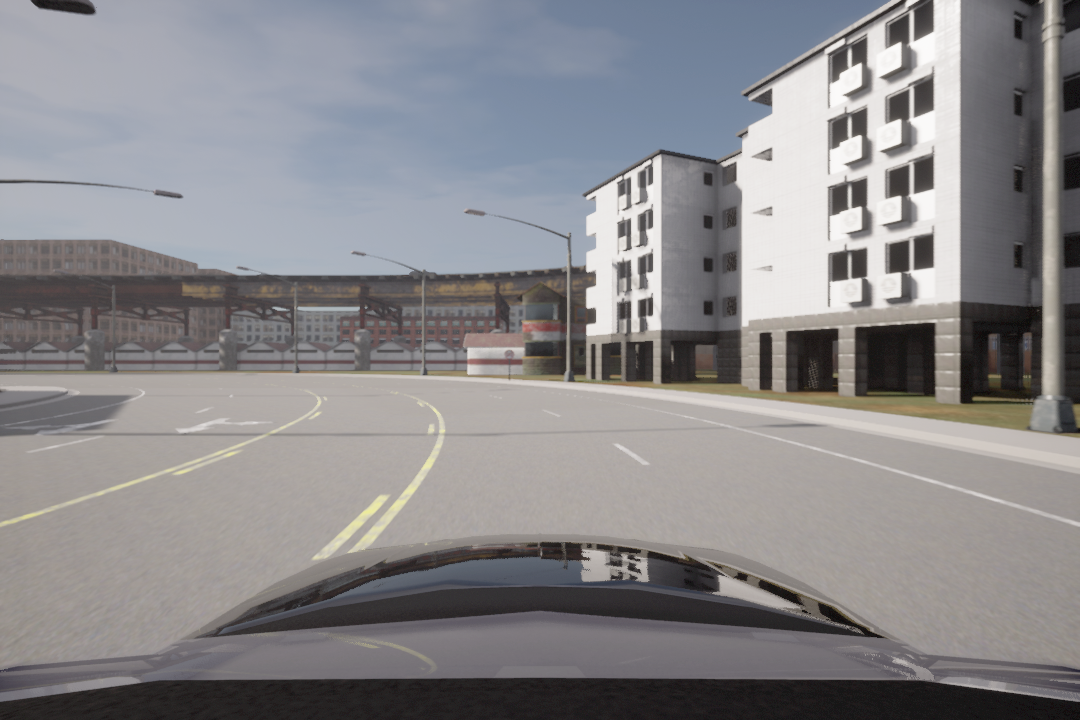RoadSign_forward_left: (173, 413, 274, 436)
RoadSign_forward_right: (6, 419, 124, 440)
